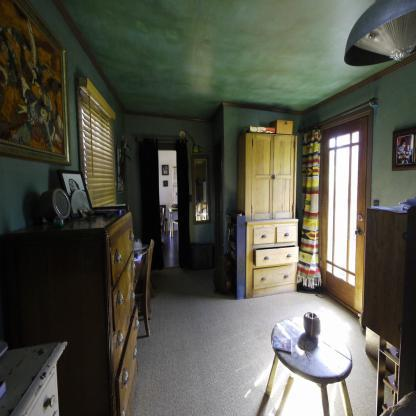door: (318, 130, 364, 311)
hinged: (320, 200, 323, 211), (320, 258, 322, 269), (322, 141, 324, 151)
knob: (354, 228, 360, 238)
